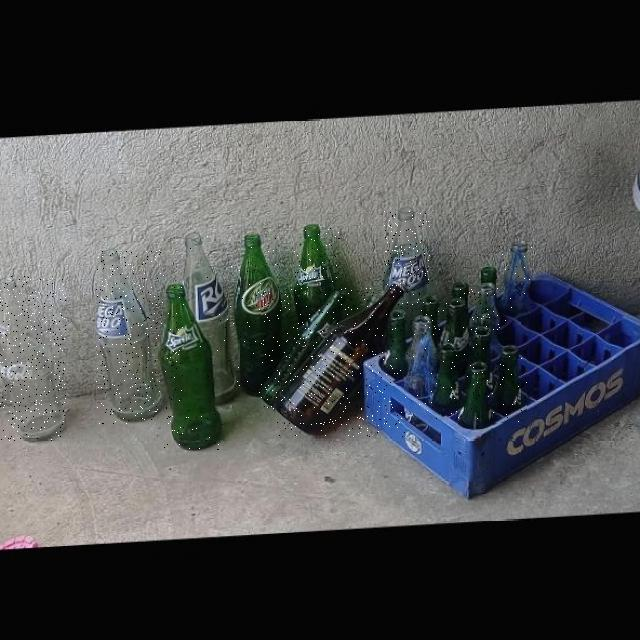glass: (276, 287, 405, 437), (97, 251, 164, 424), (0, 276, 66, 441), (159, 285, 223, 454), (262, 293, 348, 411), (184, 234, 239, 408), (235, 236, 283, 400), (383, 212, 430, 331), (294, 228, 341, 333), (405, 321, 438, 412), (470, 288, 500, 388), (438, 303, 472, 384), (490, 351, 527, 423), (500, 246, 532, 323), (431, 349, 466, 419), (458, 368, 493, 435), (381, 316, 410, 386), (472, 334, 497, 400), (453, 287, 474, 350), (423, 301, 441, 355)
